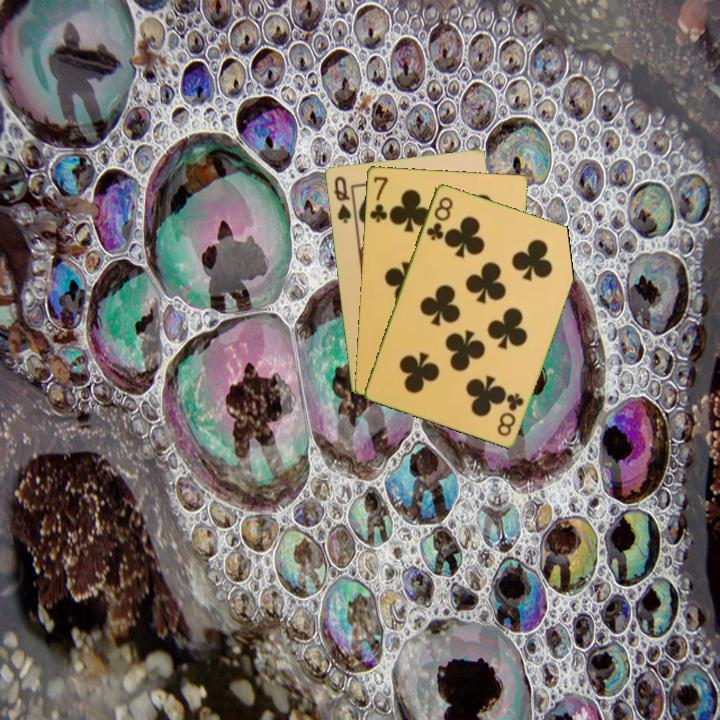7c: (366, 172, 391, 225)
8c: (422, 193, 456, 243), (493, 389, 527, 439)
Qs: (330, 172, 354, 226)
